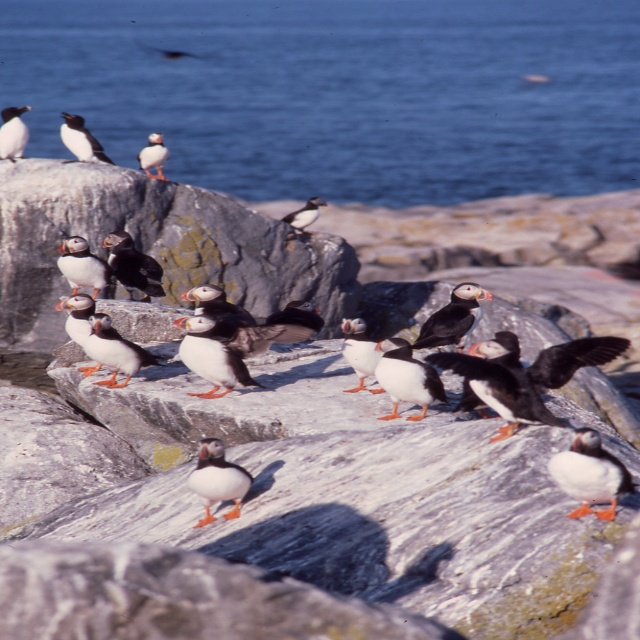Penguin: (161, 294, 265, 403)
